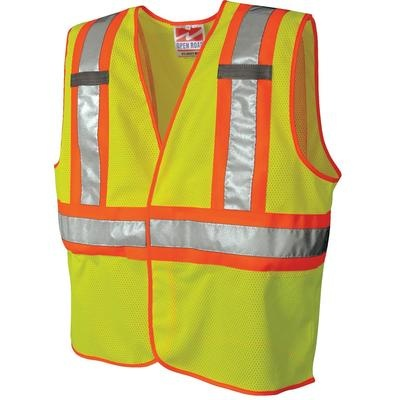safety vest: (54, 9, 329, 394)
